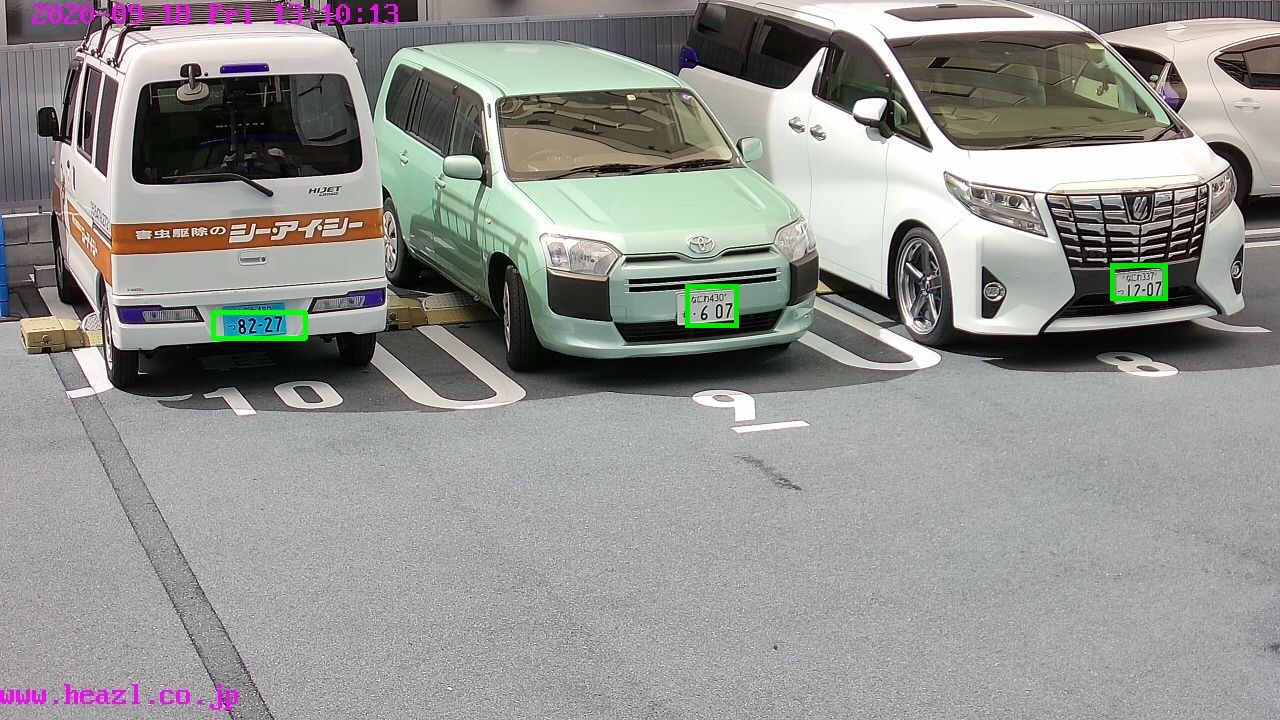number_plate: (223, 304, 291, 337), (676, 289, 736, 325), (1116, 269, 1167, 302)
